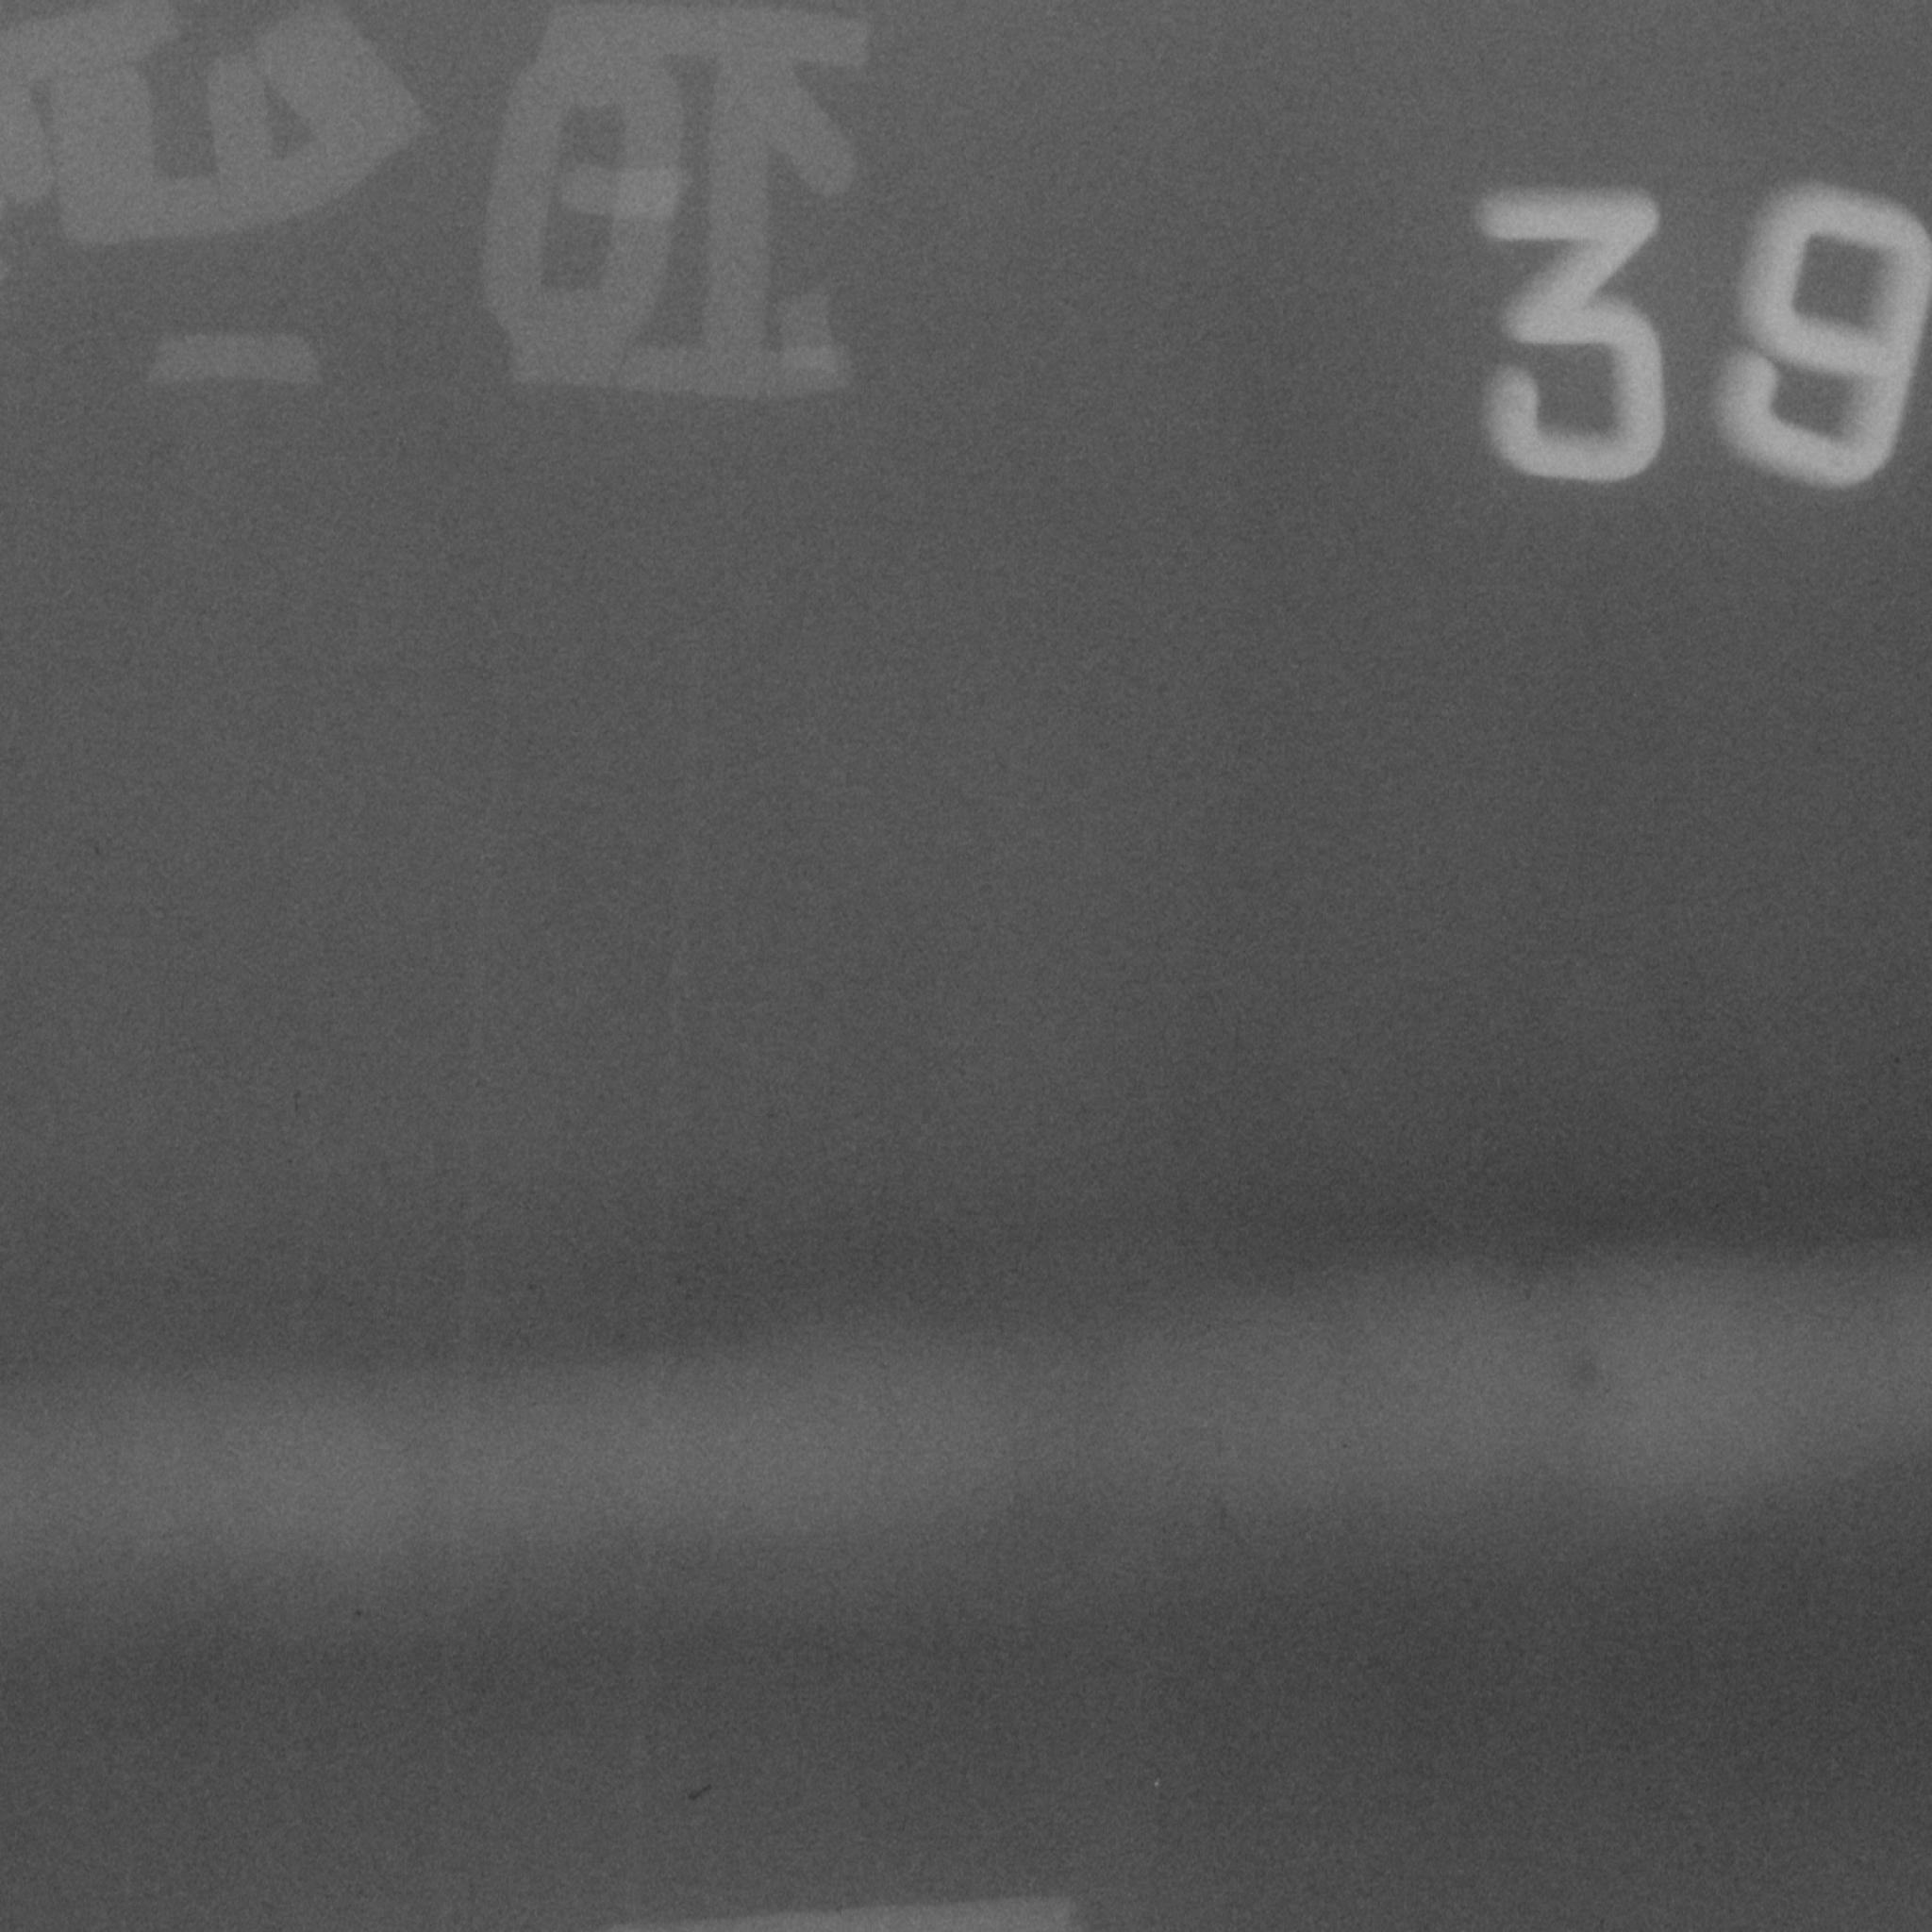PO: (671, 1769, 729, 1819), (340, 1596, 375, 1629)
Solda Ruim: (1514, 1306, 1670, 1460)
